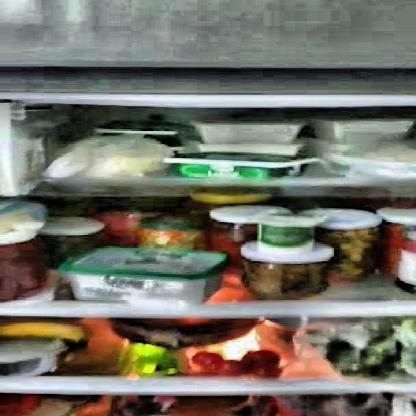banana: (3, 320, 90, 346)
cheese: (67, 249, 222, 298)
cream_cheese: (166, 152, 303, 177)
lettuce: (322, 338, 414, 380)
tomato: (194, 353, 280, 378)
tomato_paste: (1, 229, 52, 299)
yoghurt: (253, 214, 319, 250)
